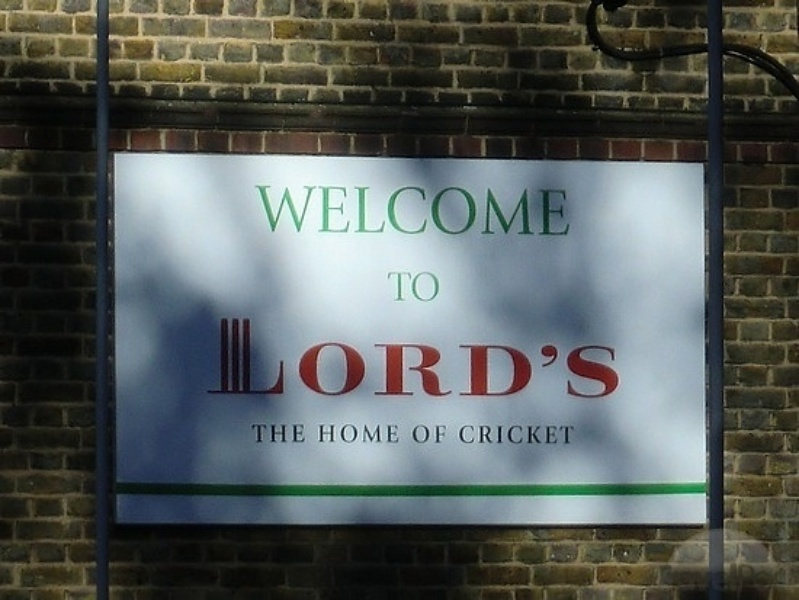text: (209, 317, 224, 399), (225, 317, 240, 399), (241, 317, 256, 399), (257, 317, 272, 399), (273, 317, 288, 399), (289, 317, 304, 399), (305, 317, 320, 399), (321, 317, 336, 399), (337, 317, 352, 399), (353, 317, 368, 399), (369, 317, 384, 399), (385, 317, 400, 399), (401, 317, 416, 399), (417, 317, 432, 399), (433, 317, 448, 399), (449, 317, 464, 399), (465, 317, 480, 399), (481, 317, 496, 399), (497, 317, 512, 399), (513, 317, 528, 399), (529, 317, 544, 399), (545, 317, 560, 399), (561, 317, 576, 399), (577, 317, 592, 399), (593, 317, 608, 399), (609, 317, 621, 399), (257, 184, 272, 236), (273, 184, 288, 236), (289, 184, 304, 236), (305, 184, 320, 236), (321, 184, 336, 236), (337, 184, 352, 236), (353, 184, 368, 236), (369, 184, 384, 236), (385, 184, 400, 236), (401, 184, 416, 236), (417, 184, 432, 236), (433, 184, 448, 236), (449, 184, 464, 236), (465, 184, 480, 236), (481, 184, 496, 236), (497, 184, 512, 236), (513, 184, 528, 236), (529, 184, 544, 236), (545, 184, 560, 236), (561, 184, 571, 236), (401, 271, 416, 303), (417, 271, 432, 303), (387, 271, 400, 303), (257, 422, 272, 444), (273, 422, 288, 444), (289, 422, 304, 444), (204, 317, 208, 399), (417, 423, 432, 444), (465, 425, 480, 444), (481, 425, 496, 444), (497, 425, 512, 444), (513, 425, 528, 444), (529, 425, 544, 444), (545, 425, 560, 444), (321, 423, 336, 442), (337, 423, 352, 442), (353, 423, 368, 442), (369, 423, 384, 442), (433, 423, 446, 444), (385, 423, 399, 442), (433, 271, 441, 303), (561, 425, 574, 444), (249, 422, 256, 444), (458, 425, 464, 444), (412, 423, 416, 444), (255, 184, 256, 236), (305, 422, 307, 444), (319, 423, 320, 442)
